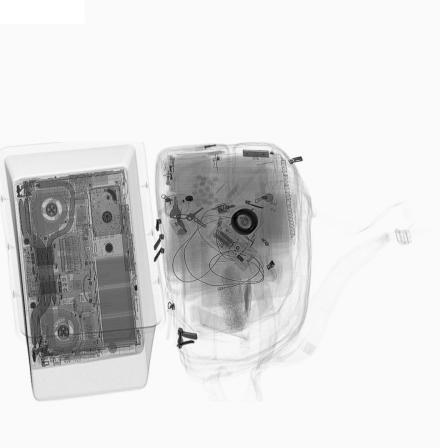Lighter: (215, 215, 258, 250)
